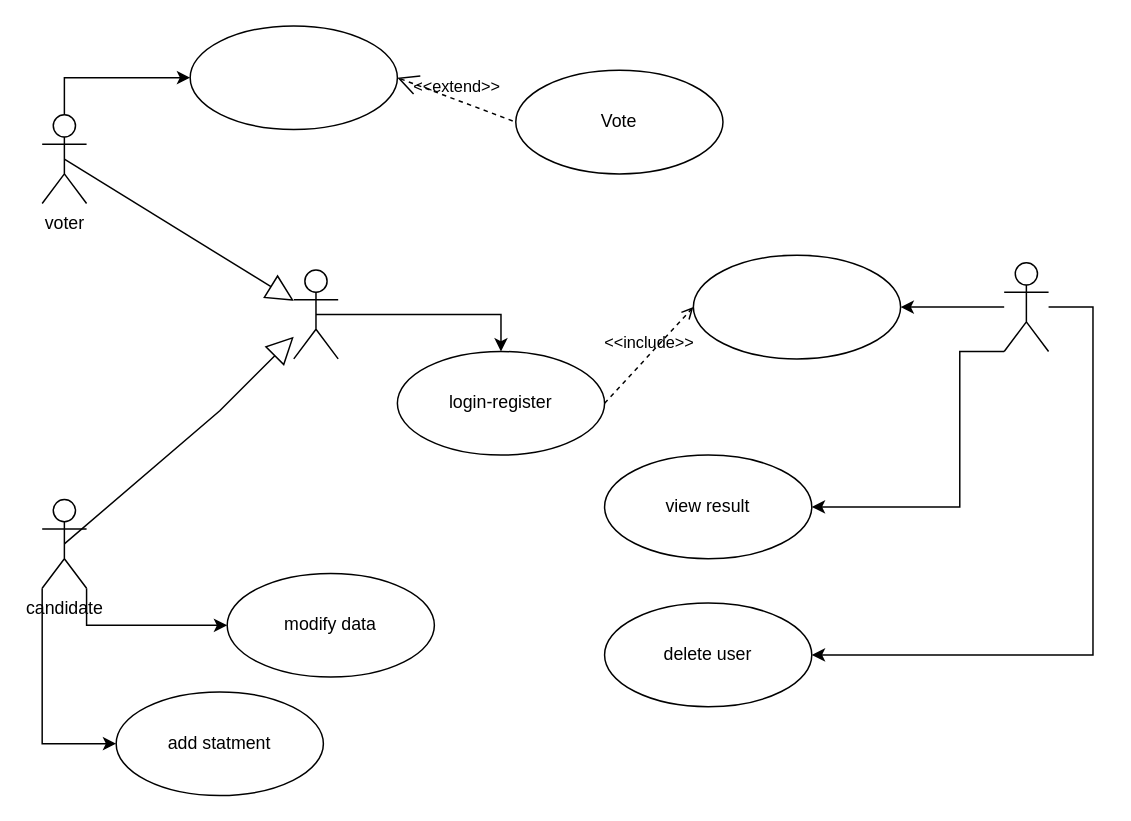
Image size: 1131x821. Some labels were removed from this diagram. Each missing label, with the centre of its shape:
Admin: point (1026, 306)
identfy: point (796, 306)
User: point (315, 314)
View candidate statment: point (293, 77)
